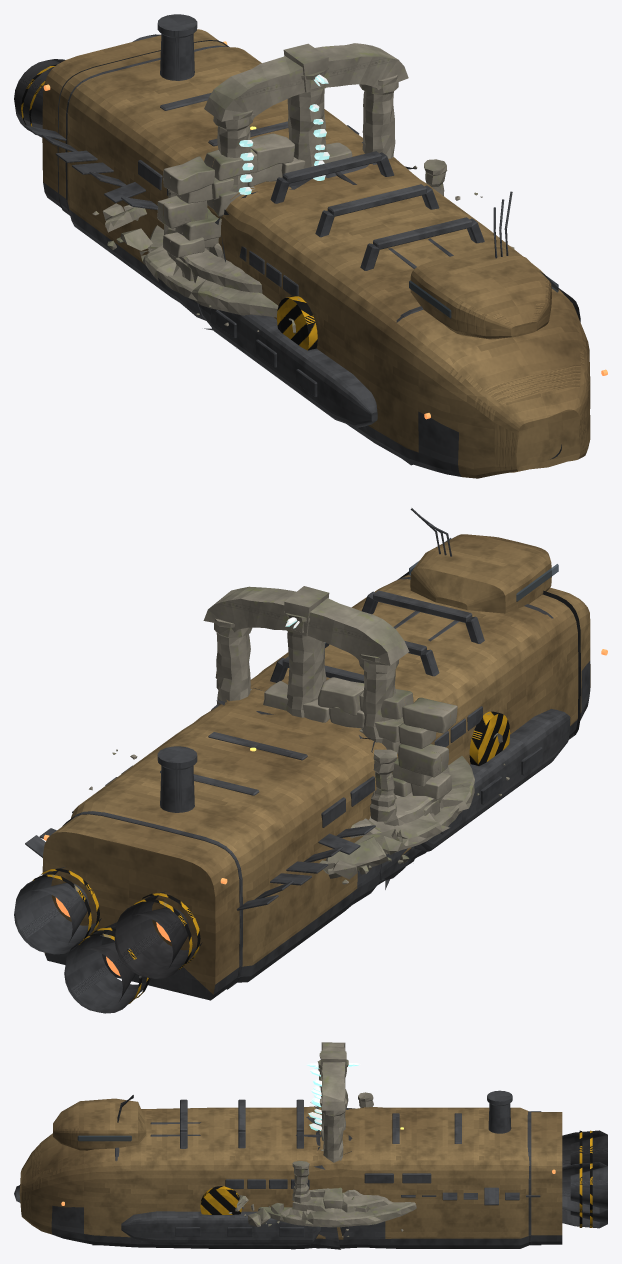
The model's file is reach_kit.glb.
3 views of the same model, one above another, from view 1: azimuth 30°, elevation 25°; view 2: azimuth 150°, elevation 25°; view 3: azimuth 270°, elevation 25° (orthographic). The views are drawn at different scales.
Parts seen in each view (by area): view 1: FreighterFore, FreighterAft, RuinArch, RuinWall, RuinDais, RuinPillar; view 2: FreighterAft, FreighterFore, RuinArch, RuinWall, RuinDais, RuinPillar; view 3: FreighterFore, FreighterAft, RuinDais, RuinArch, RuinWall, RuinPillar.
Boxes of the visible parts, bbox=[...] form: FreighterFore: bbox=[197, 141, 607, 478]; FreighterAft: bbox=[14, 14, 416, 348]; RuinArch: bbox=[204, 43, 408, 194]; RuinWall: bbox=[157, 133, 352, 280]; RuinDais: bbox=[92, 159, 514, 333]; RuinPillar: bbox=[287, 67, 329, 180]; FreighterAft: bbox=[14, 688, 416, 1013]; FreighterFore: bbox=[211, 508, 607, 889]; RuinArch: bbox=[203, 586, 409, 743]; RuinWall: bbox=[250, 677, 457, 815]; RuinDais: bbox=[89, 671, 509, 884]; RuinPillar: bbox=[284, 611, 326, 717]; FreighterFore: bbox=[14, 1095, 354, 1249]; FreighterAft: bbox=[306, 1090, 607, 1248]; RuinDais: bbox=[228, 1092, 416, 1237]; RuinArch: bbox=[306, 1042, 360, 1162]; RuinWall: bbox=[306, 1068, 368, 1214]; RuinPillar: bbox=[308, 1059, 348, 1130].
Bounding box in the file's own units: 12.04 × 9.1 × 28.57.
23 materials, 13 textured.
